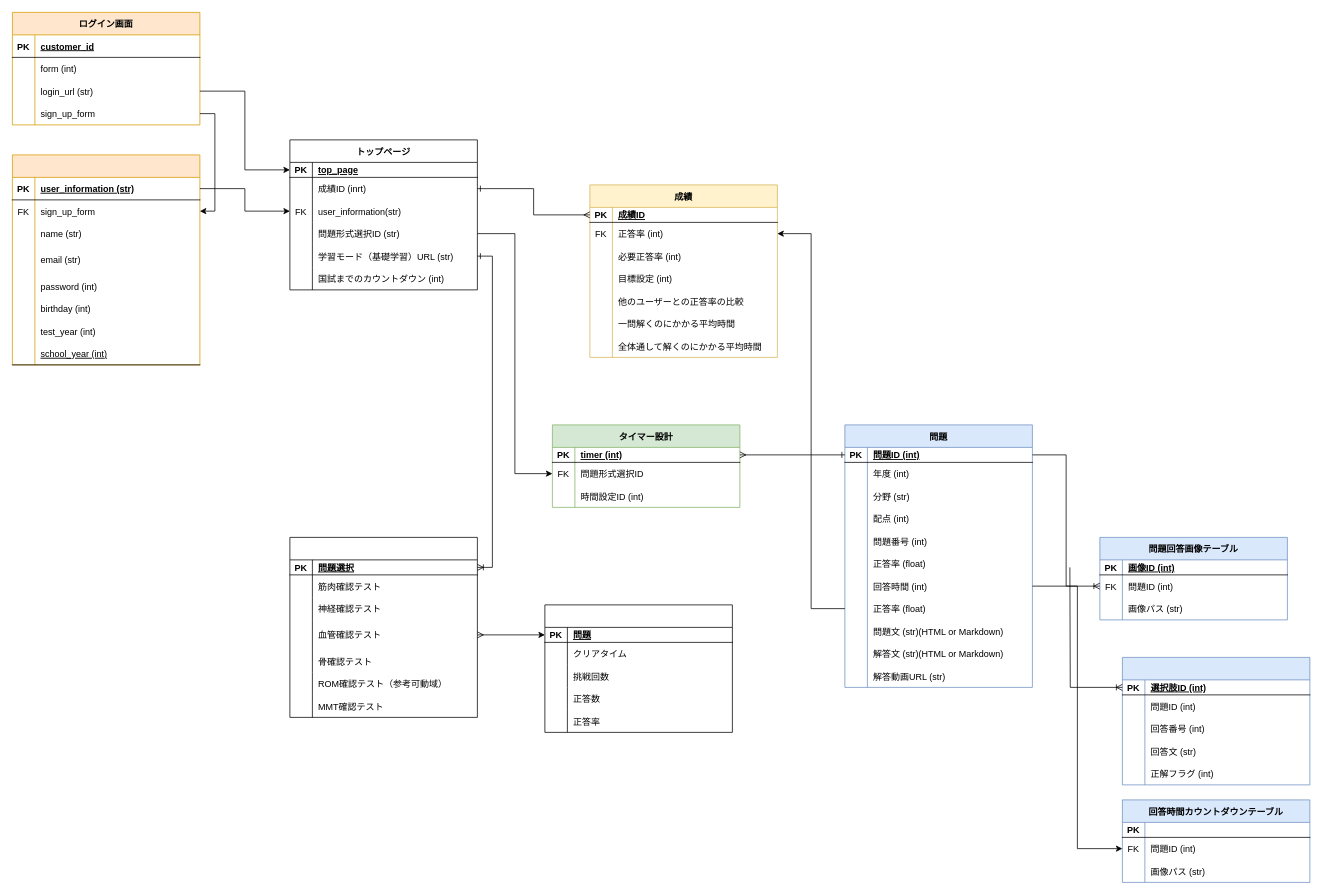
This 1322x895 diagram has some shape labels left out. The box of each missing label's shape, as (x1, y1, x2, y2) in pixels:
回答選択肢テーブル: (1122, 657, 1310, 785)
学習モード: (289, 537, 477, 717)
学習問題: (544, 604, 732, 732)
登録画面: (12, 154, 200, 365)
